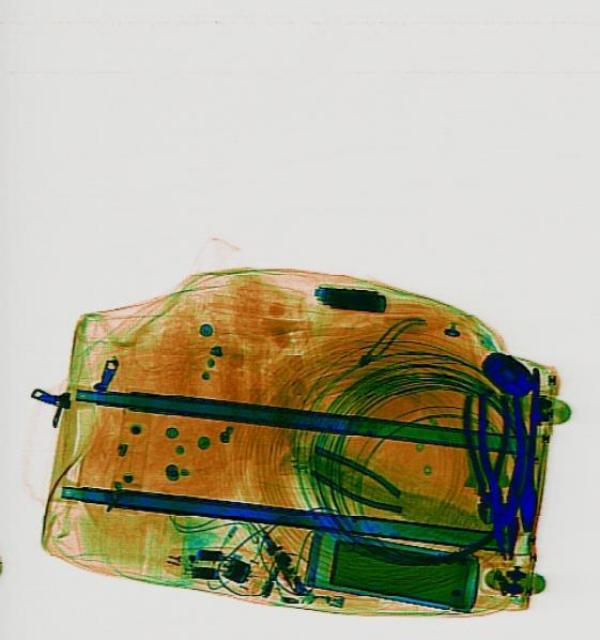Pliers: (474, 391, 529, 557), (458, 393, 510, 523)
